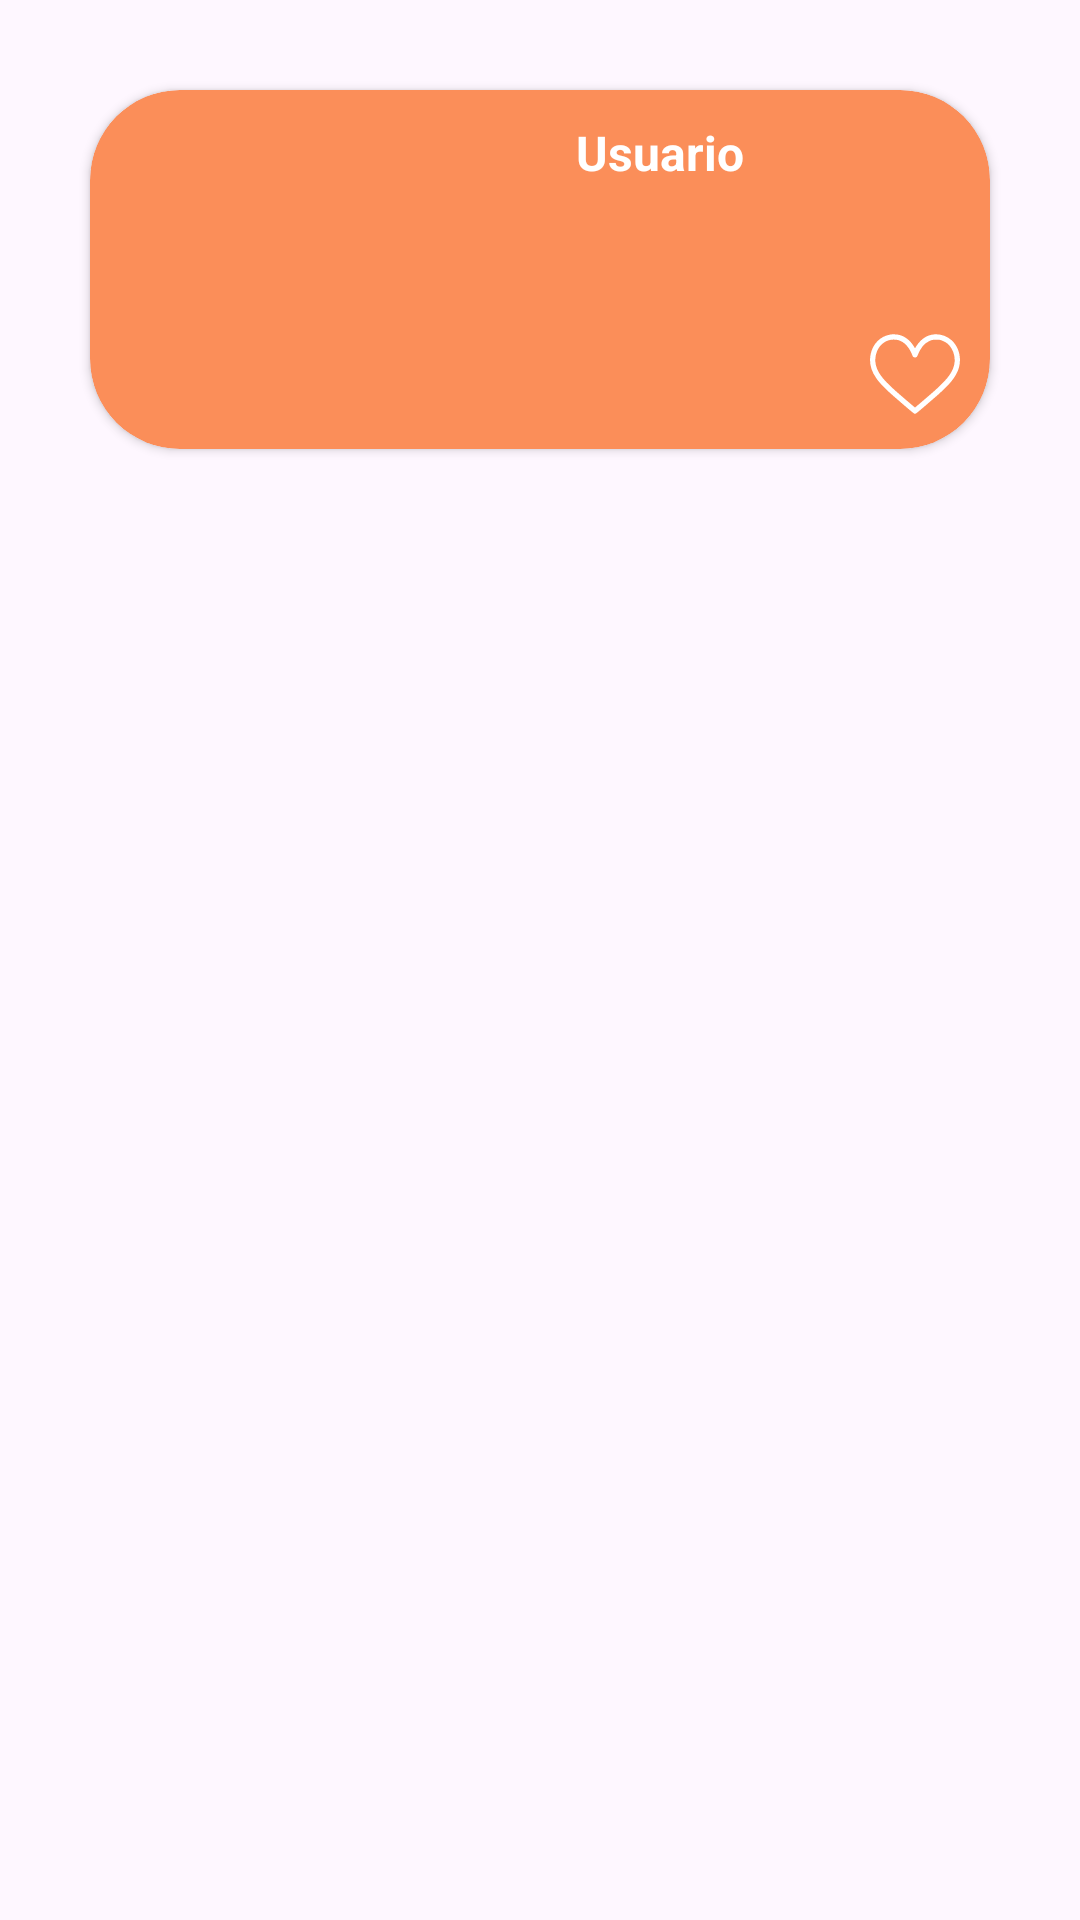

Where icons sit on this 1080px×1920px app screen, as {"left": x1, "top": y1, "right": x2, "bottom": y2}:
Me gusta: {"left": 870, "top": 334, "right": 960, "bottom": 414}
